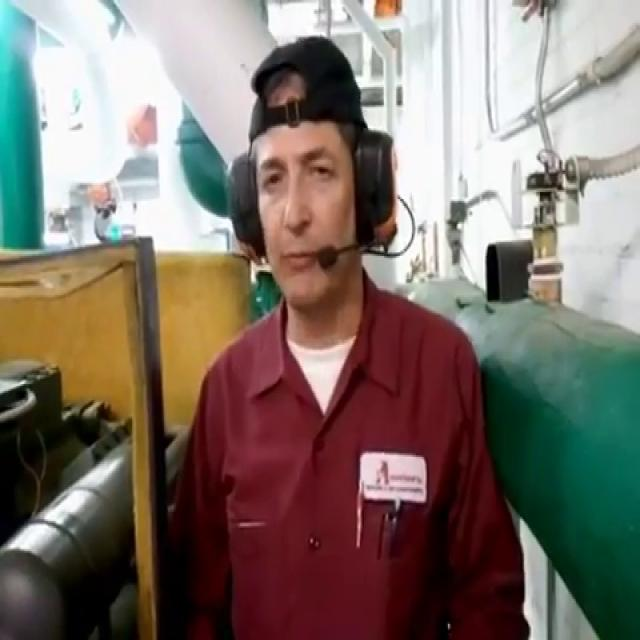earmuff: (349, 127, 402, 251), (224, 147, 269, 266)
